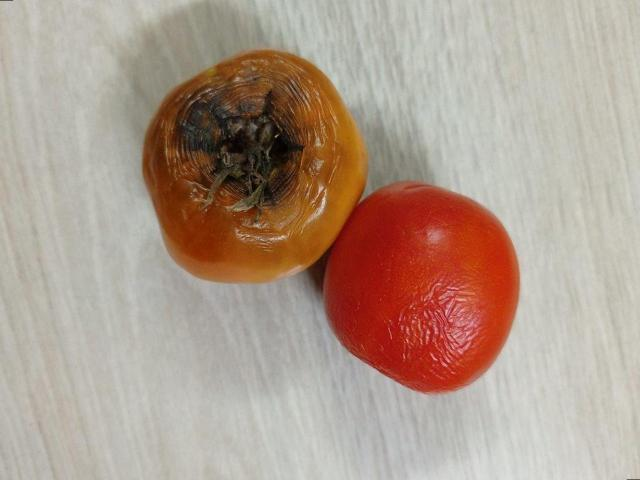defect: (141, 48, 369, 286)
